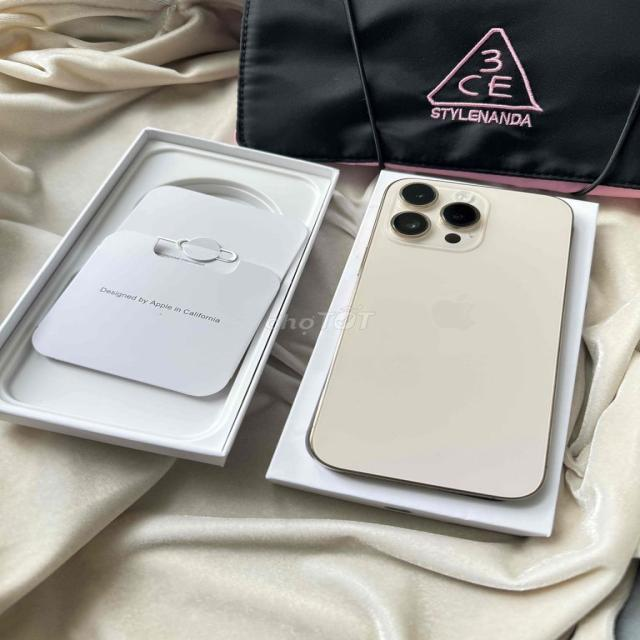gen_14: (304, 170, 578, 513)
